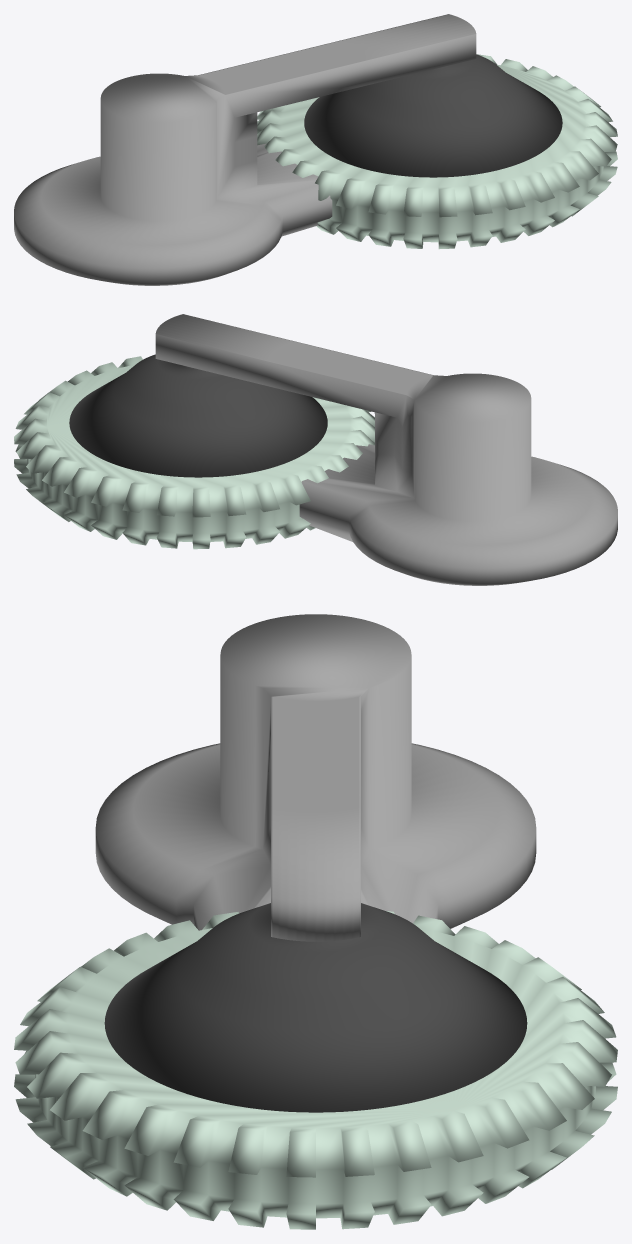
File: 감속기.fbx
The picture shows the model from 3 angles, top to bottom: view 1: azimuth 30°, elevation 25°; view 2: azimuth 150°, elevation 25°; view 3: azimuth 270°, elevation 25°; orthographic projection. The views are drawn at different scales.
Parts seen in each view (by area): view 1: SunGear; view 2: SunGear; view 3: SunGear.
Boxes of the visible parts, x1,y1,x2,y2 form: SunGear: [14, 14, 617, 285]; SunGear: [14, 314, 617, 585]; SunGear: [14, 614, 617, 1229].
Bounding box in the file's own units: 427 × 108 × 243.
